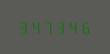four: (29, 20, 40, 34), (66, 20, 77, 34)
seven: (42, 20, 53, 34)
six: (78, 20, 89, 34)
three: (17, 20, 28, 34), (54, 20, 65, 34)
